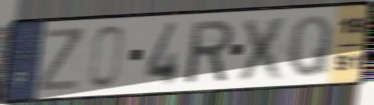0: (86, 22, 130, 92)
4: (142, 20, 182, 88)
Q: (286, 13, 334, 79)
R: (185, 17, 237, 86)
X: (234, 14, 293, 83)
Z: (37, 25, 86, 94)
